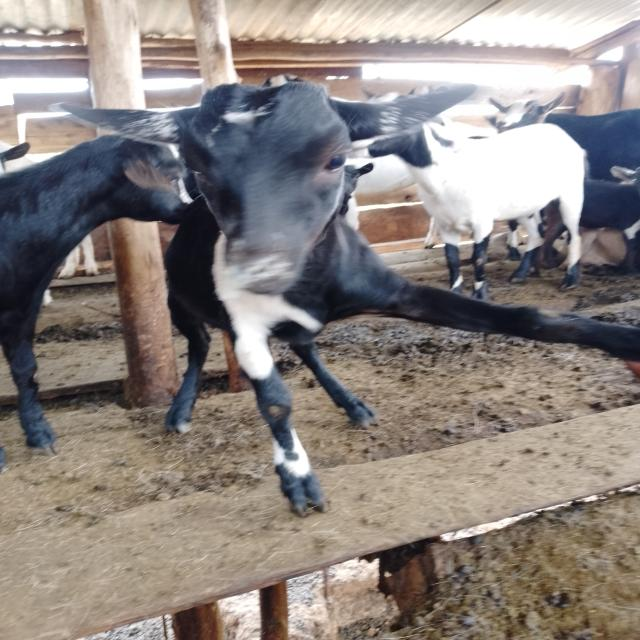goat: (21, 63, 640, 547)
